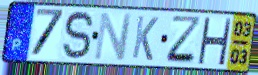7: (31, 7, 66, 61)
H: (196, 16, 233, 67)
K: (130, 14, 160, 63)
N: (92, 11, 135, 62)
S: (61, 9, 96, 62)
Z: (165, 14, 204, 66)
